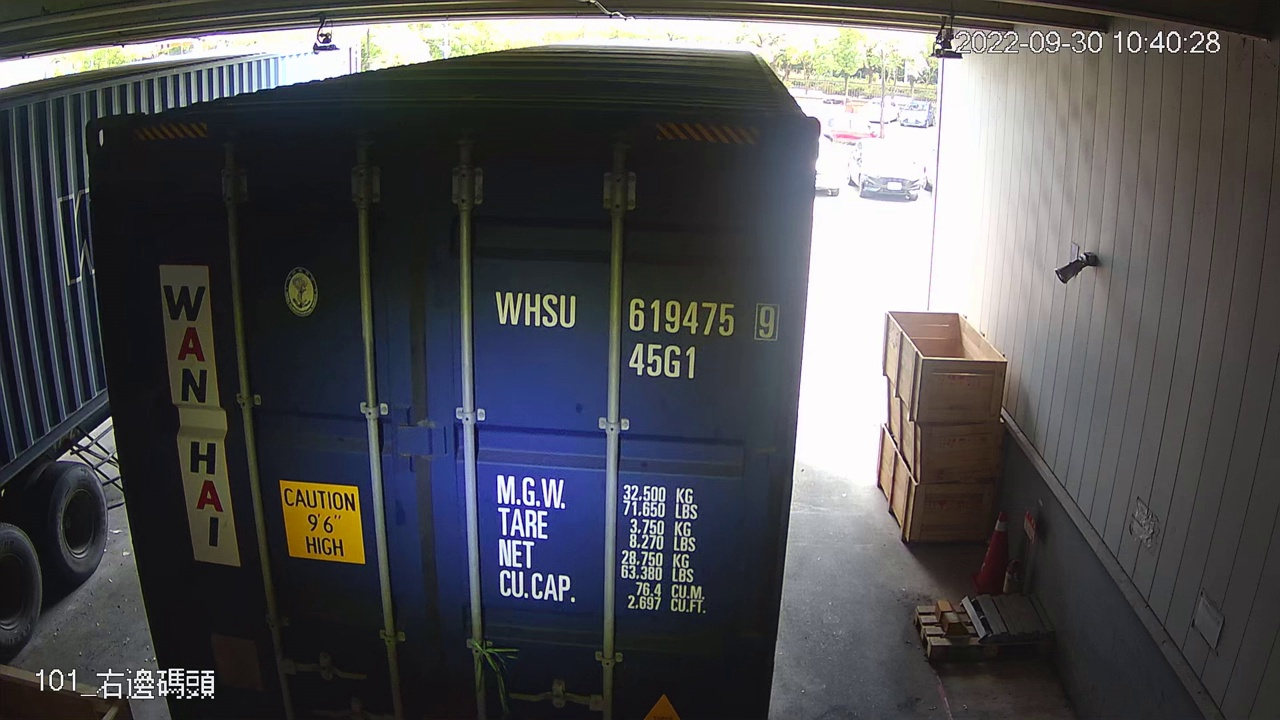container: (490, 280, 784, 385)
